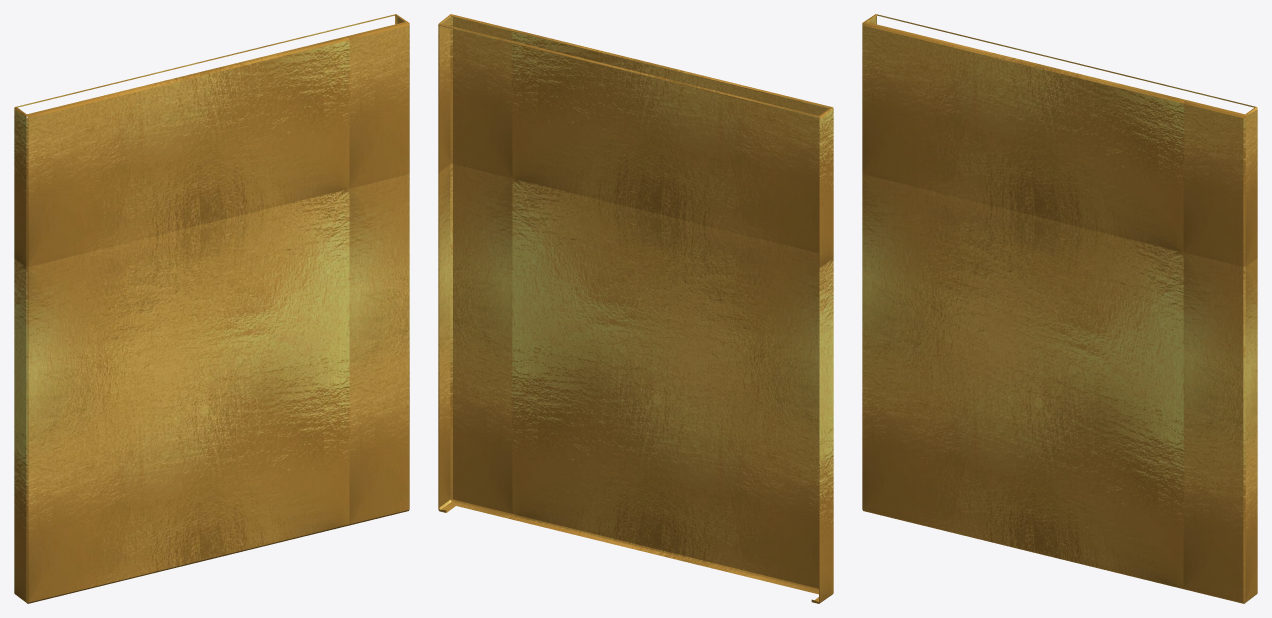
Rendered from original-6.obj.
3 views of the same model, side by side, from view 1: azimuth 30°, elevation 25°; view 2: azimuth 150°, elevation 25°; view 3: azimuth 330°, elevation 25° (orthographic).
Parts seen in each view (by area): view 1: #ID36; view 2: #ID36; view 3: #ID36.
Part boxes in pixels (box(x1,y1,x2,y2)): #ID36: box(14, 14, 409, 603); #ID36: box(438, 14, 833, 603); #ID36: box(862, 14, 1257, 603).
Bounding box in the file's own units: 0.9945 × 1.21 × 0.0622.
